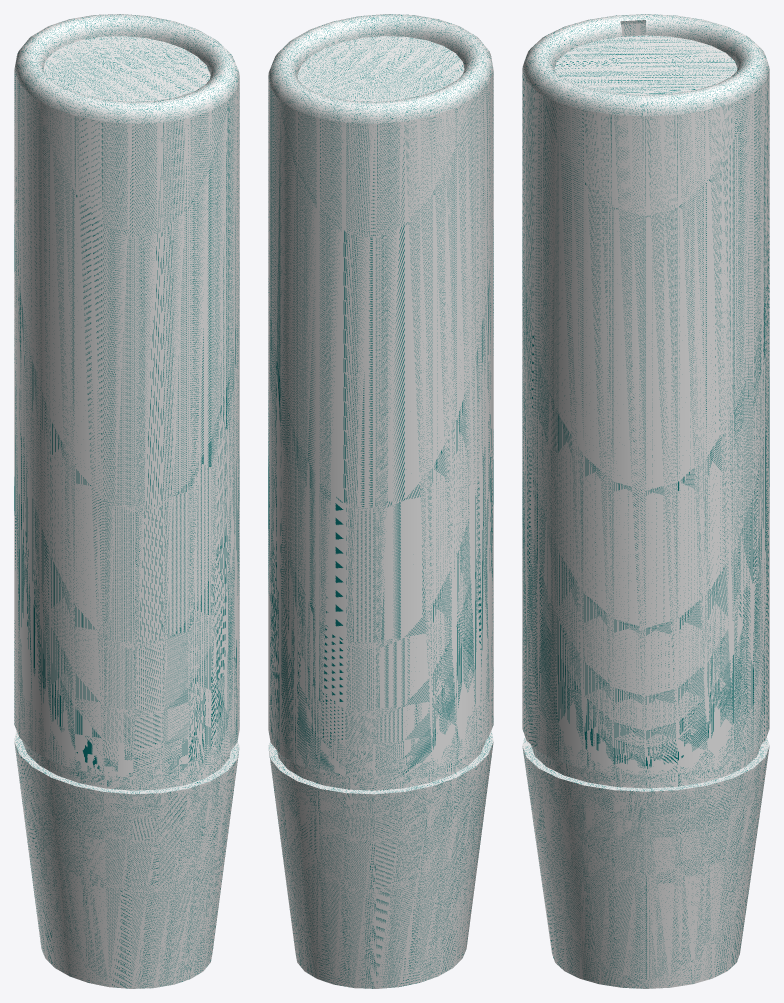
The model's file is original-24.obj.
3 views of the same model, side by side, from view 1: azimuth 30°, elevation 25°; view 2: azimuth 150°, elevation 25°; view 3: azimuth 270°, elevation 25° (orthographic).
Parts seen in each view (by area): view 1: Group13/mesh20/mesh20-geometry#mesh20-geometry; view 2: Group13/mesh20/mesh20-geometry#mesh20-geometry; view 3: Group13/mesh20/mesh20-geometry#mesh20-geometry.
Boxes of the visible parts, <box> form: Group13/mesh20/mesh20-geometry#mesh20-geometry: <box>14,14,239,988</box>; Group13/mesh20/mesh20-geometry#mesh20-geometry: <box>268,14,493,988</box>; Group13/mesh20/mesh20-geometry#mesh20-geometry: <box>522,14,769,988</box>.
Size of the model in its own units: 0.0637 by 0.2867 by 0.0716.
